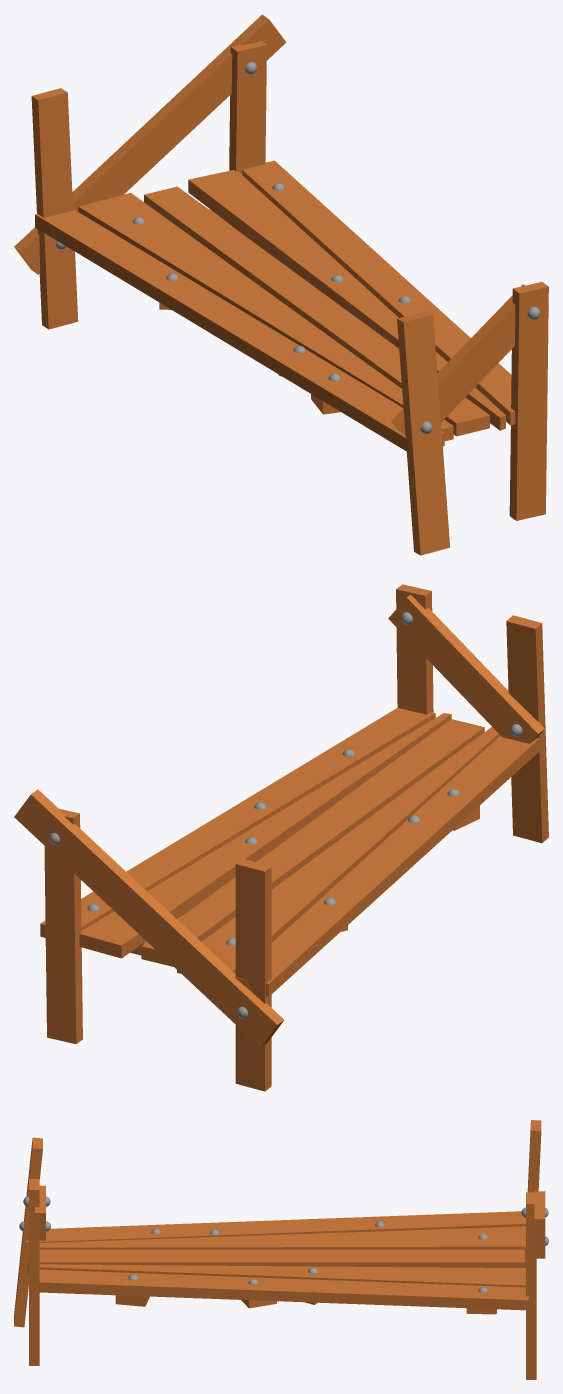
The model's file is FloorFence.fbx.
The picture shows the model from 3 angles, top to bottom: view 1: azimuth 30°, elevation 25°; view 2: azimuth 150°, elevation 25°; view 3: azimuth 270°, elevation 25°; orthographic projection. The views are drawn at different scales.
Visible parts, largest first — view 1: Cube.002, Cube.003, Cube, Cube.004, Cube.001, Cube.012, Cube.009, Cube.010, Cube.014, Cube.013, Cube.011; view 2: Cube.002, Cube.012, Cube.004, Cube, Cube.001, Cube.003, Cube.013, Cube.011, Cube.014, Cube.009, Cube.010; view 3: Cube.001, Cube, Cube.003, Cube.002, Cube.004, Cube.010, Cube.013, Cube.009, Cube.014, Cube.012, Cube.011, Cube.005.
Boxes of the visible parts, x1,y1,x2,y2 form: Cube.002: [35, 209, 444, 453]; Cube.003: [78, 192, 453, 441]; Cube: [144, 186, 489, 436]; Cube.004: [188, 170, 505, 430]; Cube.001: [242, 160, 515, 425]; Cube.012: [14, 14, 286, 274]; Cube.009: [397, 310, 450, 555]; Cube.010: [509, 282, 548, 520]; Cube.014: [31, 88, 78, 329]; Cube.013: [229, 41, 266, 234]; Cube.011: [391, 284, 524, 435]; Cube.002: [234, 735, 542, 996]; Cube.012: [14, 789, 283, 1047]; Cube.004: [79, 713, 451, 958]; Cube: [141, 719, 484, 966]; Cube.001: [40, 707, 435, 937]; Cube.003: [177, 727, 500, 973]; Cube.013: [44, 808, 82, 1044]; Cube.011: [388, 594, 544, 743]; Cube.014: [235, 858, 271, 1091]; Cube.009: [506, 615, 548, 843]; Cube.010: [396, 584, 433, 714]; Cube.001: [38, 1269, 528, 1310]; Cube: [39, 1249, 524, 1267]; Cube.003: [39, 1226, 525, 1256]; Cube.002: [25, 1211, 525, 1252]; Cube.004: [28, 1264, 525, 1287]; Cube.010: [29, 1178, 39, 1365]; Cube.013: [526, 1192, 536, 1379]; Cube.009: [14, 1137, 42, 1327]; Cube.014: [525, 1120, 541, 1267]; Cube.012: [534, 1191, 545, 1258]; Cube.011: [35, 1185, 45, 1240]; Cube.005: [115, 1295, 149, 1306].
Bounding box in the file's own units: 245 × 220 × 547.
